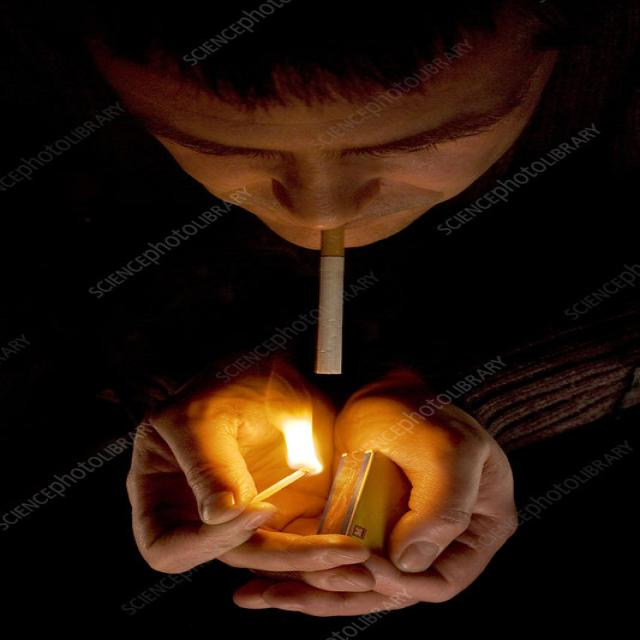fire: (282, 419, 322, 475)
